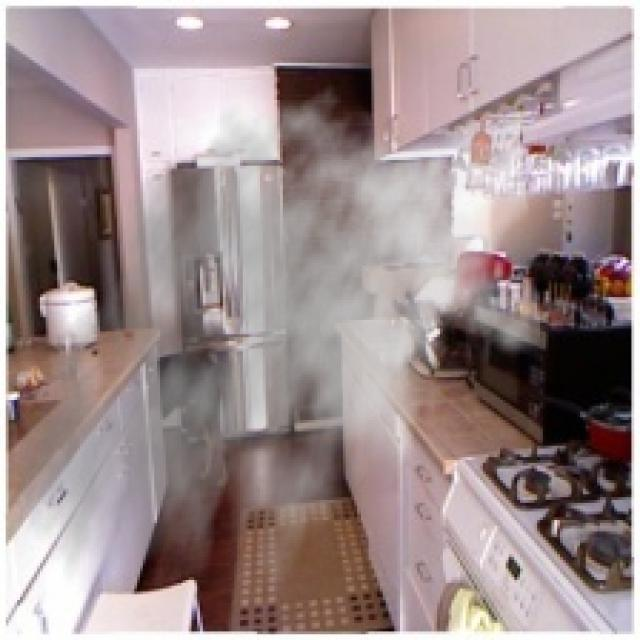Smoke: (8, 69, 543, 632)
